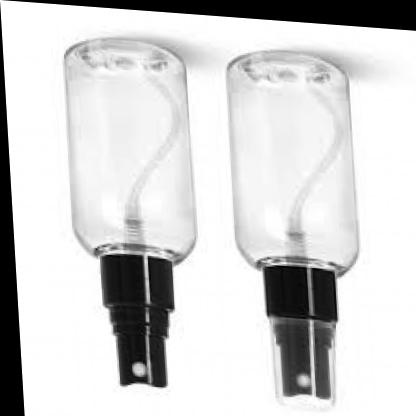trash: (227, 51, 358, 403), (65, 39, 195, 386)
